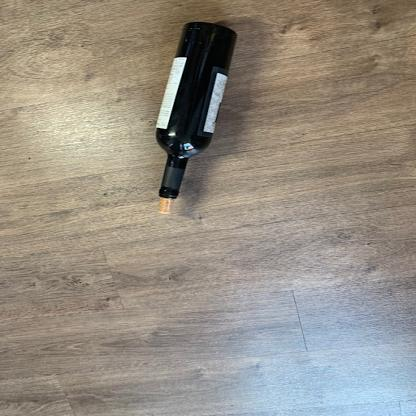trash: (154, 21, 237, 199)
